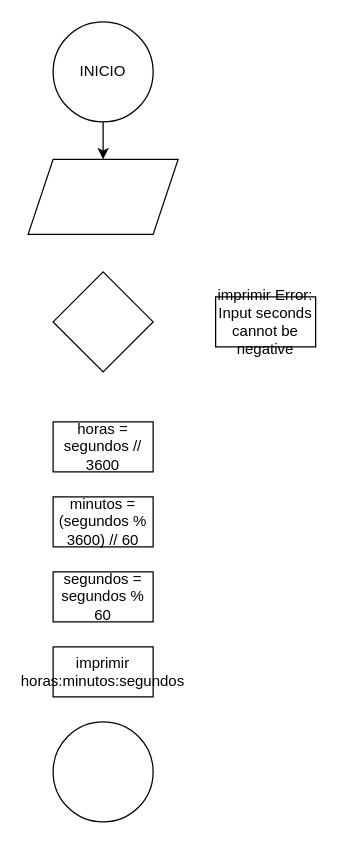
Image size: 338x844. Some labels were removed from this diagram. Here are the shapes that lost their labels. From the top down, the centre of each, then its label:
the point at 102,196: INPUT segundos
the point at 102,321: segundos < 0
the point at 102,771: FIN
